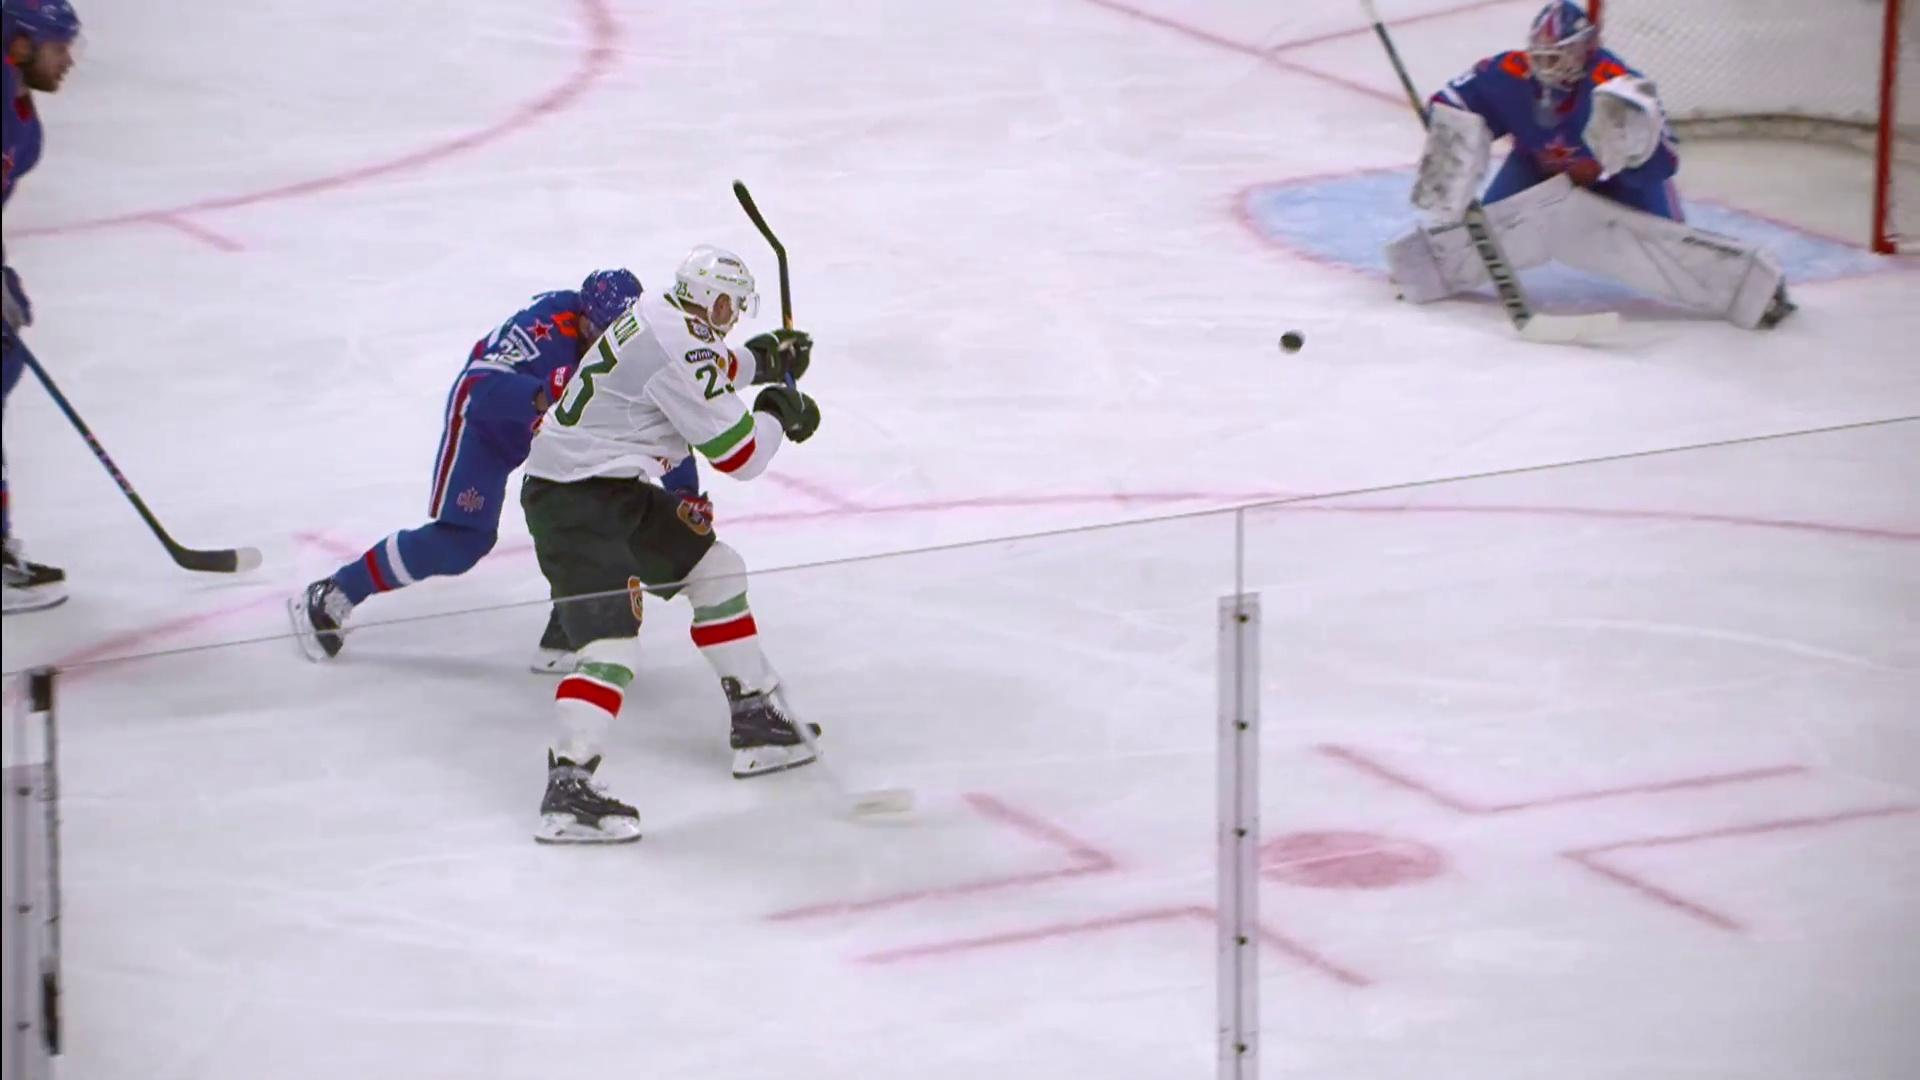ball: (1279, 331, 1304, 356)
